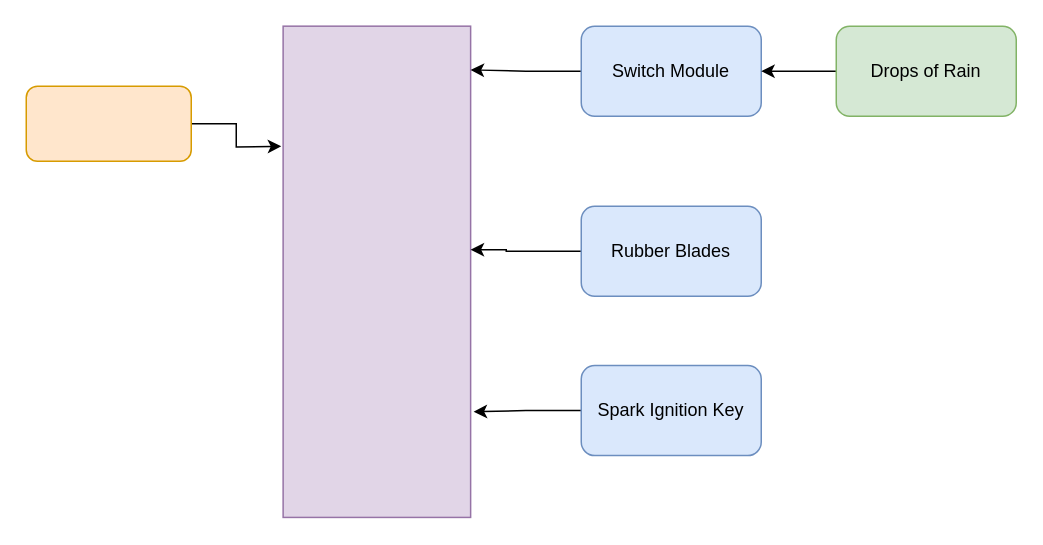
The diagram is 1043 pixels wide and 545 high, and some of its shapes have lost their labels. Here are the shapes that lost their labels. From the top down, the centre of each, then its label:
At (x=108, y=123): "5V Voltage".
At (x=376, y=271): "STM32F407VGT6 Board".
